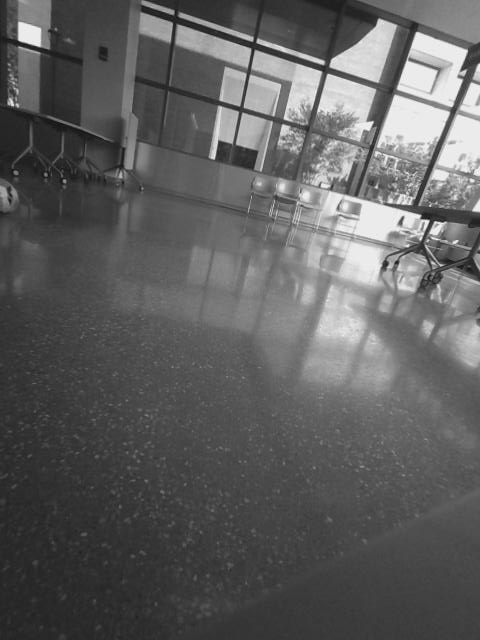ball: (1, 175, 33, 217)
